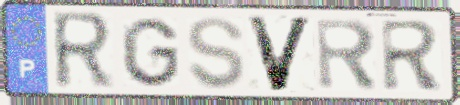G: (118, 15, 182, 90)
R: (49, 9, 117, 93), (377, 18, 447, 94), (313, 17, 381, 94)
S: (185, 15, 248, 92)
V: (243, 14, 317, 94)
